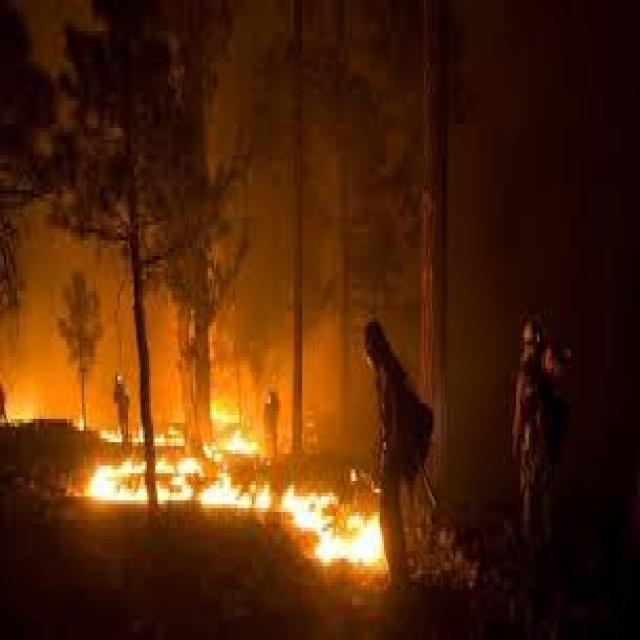Fire: (90, 455, 332, 520), (316, 520, 388, 568)
Smoke: (216, 29, 365, 444), (461, 0, 640, 318), (11, 218, 130, 427)
